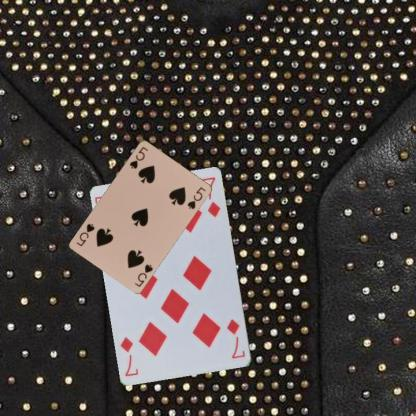5s: (132, 261, 154, 288), (127, 144, 149, 170)
7d: (224, 317, 247, 360)
